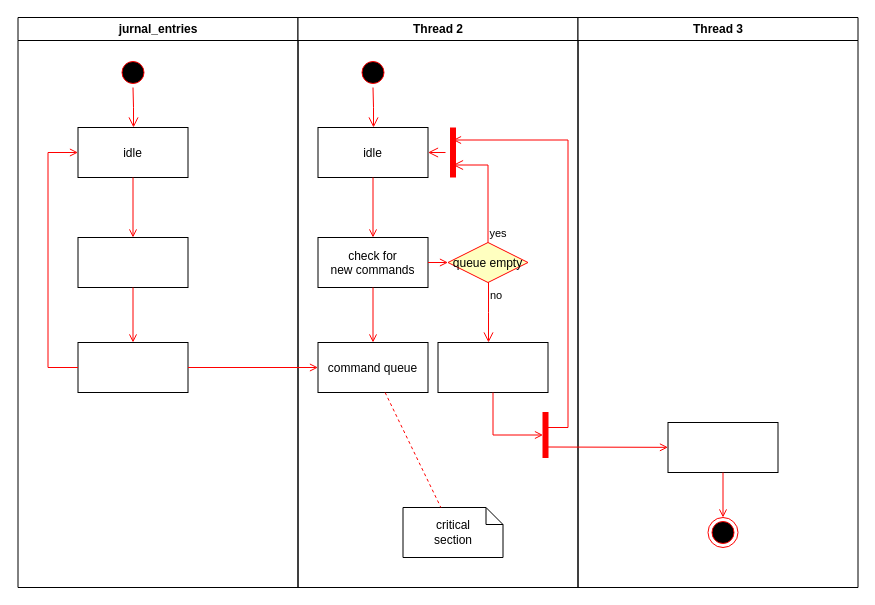
Image size: 875x605. Some labels were removed from this diagram. The centre of each missing label's shape, as x and y in pixels:
"dispatch command worker thread" belongs at point (492, 367).
"post command" belongs at point (132, 367).
"process command" belongs at point (722, 447).
"user action" belongs at point (132, 262).
